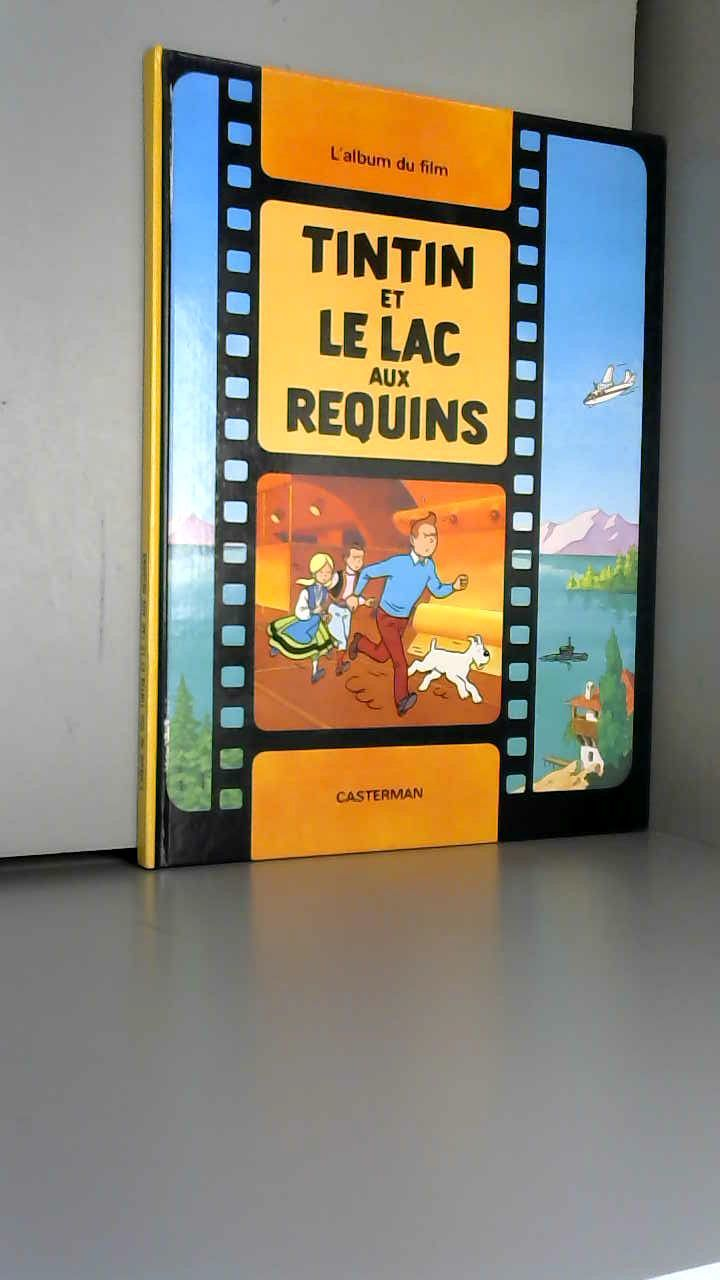book: (120, 20, 720, 917)
